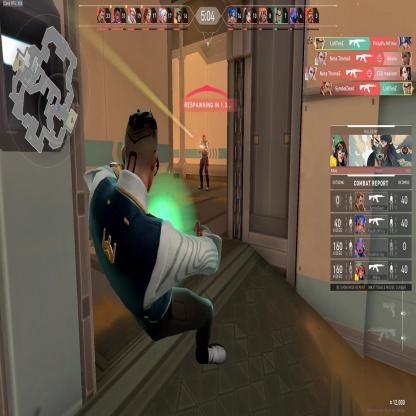enemy: (197, 133, 211, 191)
